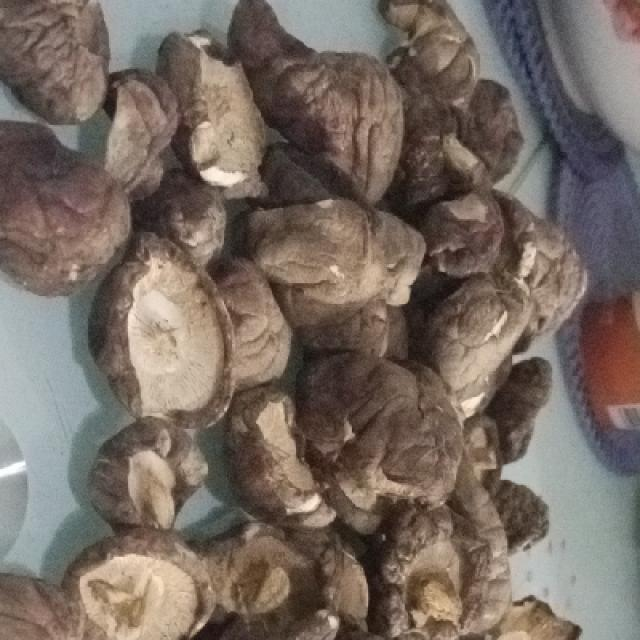Lentinus edodes: (231, 2, 405, 197), (91, 222, 240, 426), (312, 348, 463, 512), (0, 118, 131, 293), (246, 197, 428, 313), (198, 523, 376, 634), (377, 504, 514, 638), (167, 30, 271, 198), (223, 386, 339, 530), (68, 529, 211, 640), (87, 417, 207, 537)
